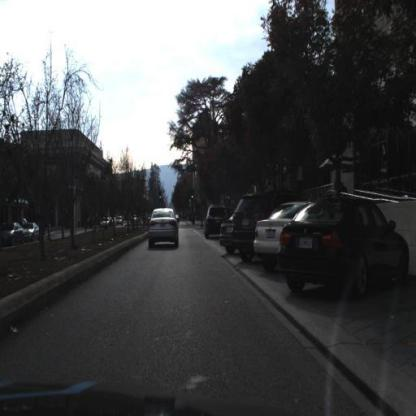car: (276, 195, 416, 294), (281, 201, 412, 297), (232, 190, 281, 263), (254, 200, 302, 274), (145, 202, 185, 258), (256, 208, 283, 268), (235, 201, 260, 257), (205, 207, 230, 243), (219, 212, 236, 263), (204, 207, 225, 243), (220, 214, 235, 254), (1, 223, 26, 246), (26, 218, 42, 245), (24, 222, 42, 241)
pedestrian: (341, 178, 350, 201)
